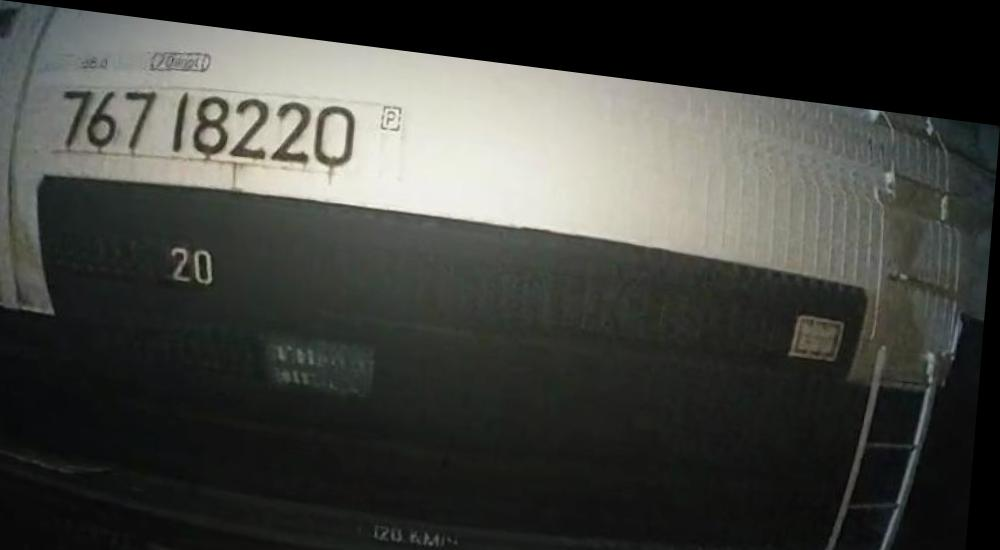Wagon-number: (56, 66, 364, 177)
